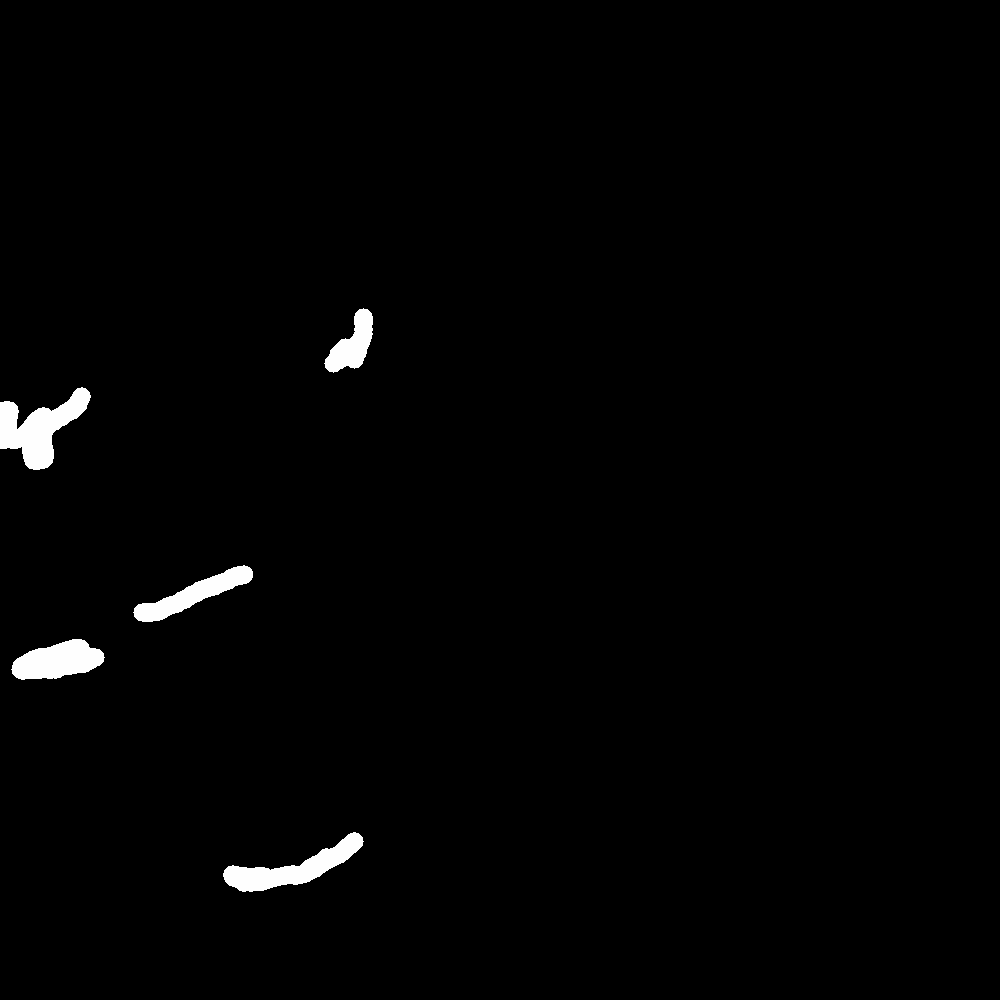illegal: (224, 835, 364, 900), (13, 391, 87, 474), (833, 144, 900, 185), (858, 242, 909, 273), (657, 293, 683, 315)
